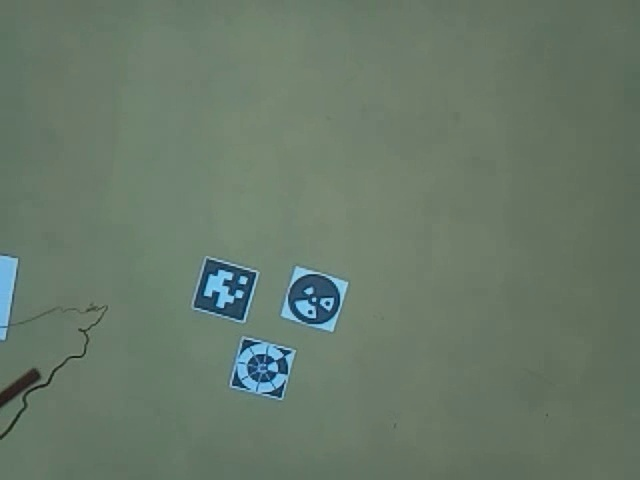landing-zone: (226, 335, 299, 404)
